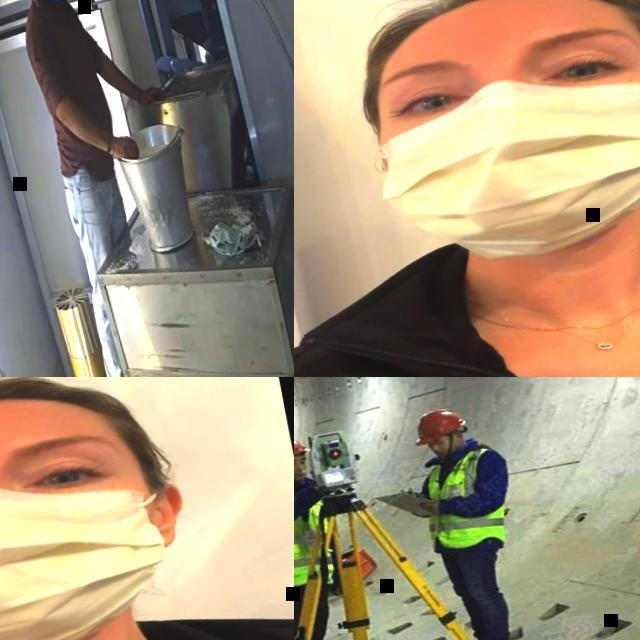Hardhat: (407, 405, 469, 446), (294, 431, 305, 468)
Mask: (365, 66, 640, 278), (0, 473, 179, 640)
NO-Hardhat: (348, 0, 640, 73), (0, 377, 132, 480)
NO-Mask: (430, 442, 457, 458), (294, 465, 307, 482)
NO-Safety Vest: (294, 217, 640, 377), (24, 0, 118, 181)
Person: (294, 0, 640, 377), (0, 0, 227, 377), (0, 377, 294, 640), (402, 398, 550, 640), (294, 428, 371, 640)
Safety Vest: (414, 445, 509, 559), (294, 474, 342, 599)
